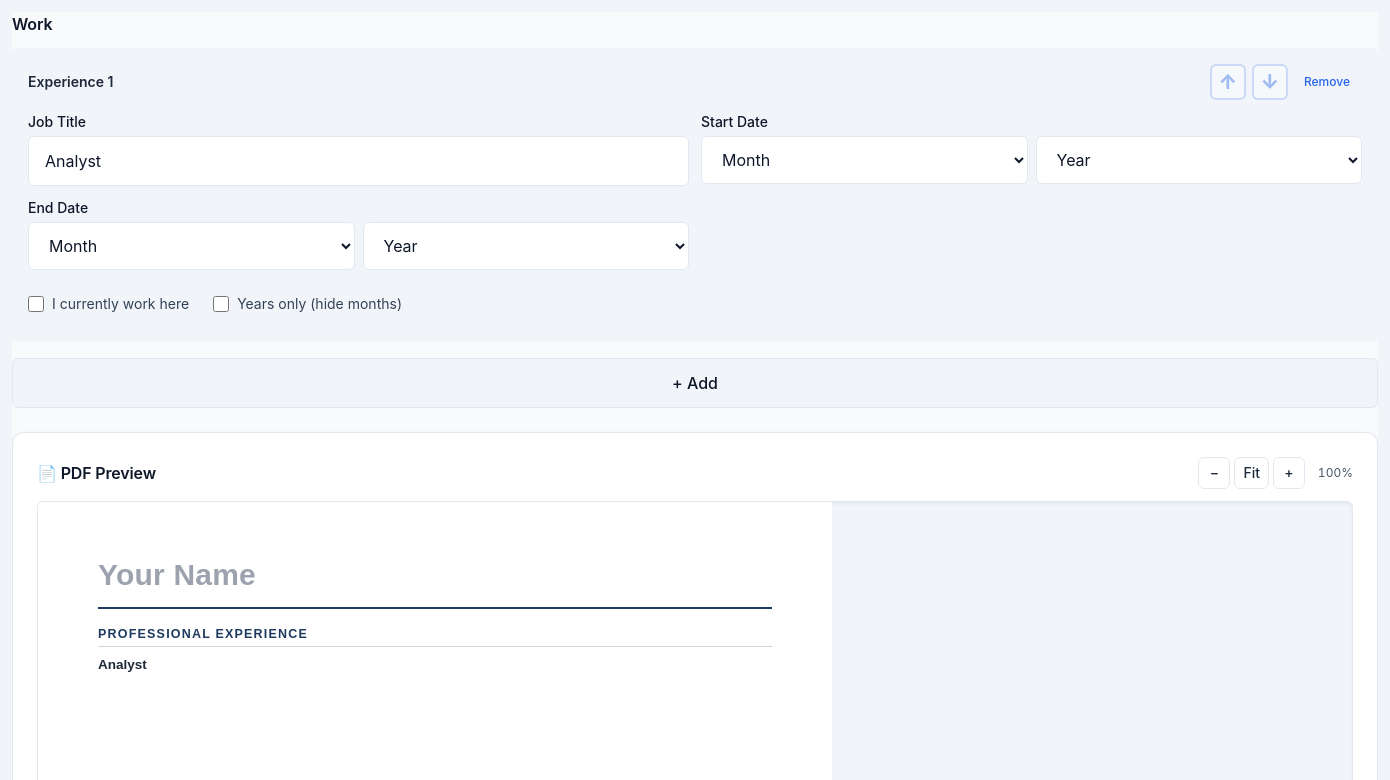
Test: date fields with "Years only" › remembers a month chosen before the year
Select "Jun" in the 1st dropdown named "Start Date month": (864, 160) [701,136,1028,184]
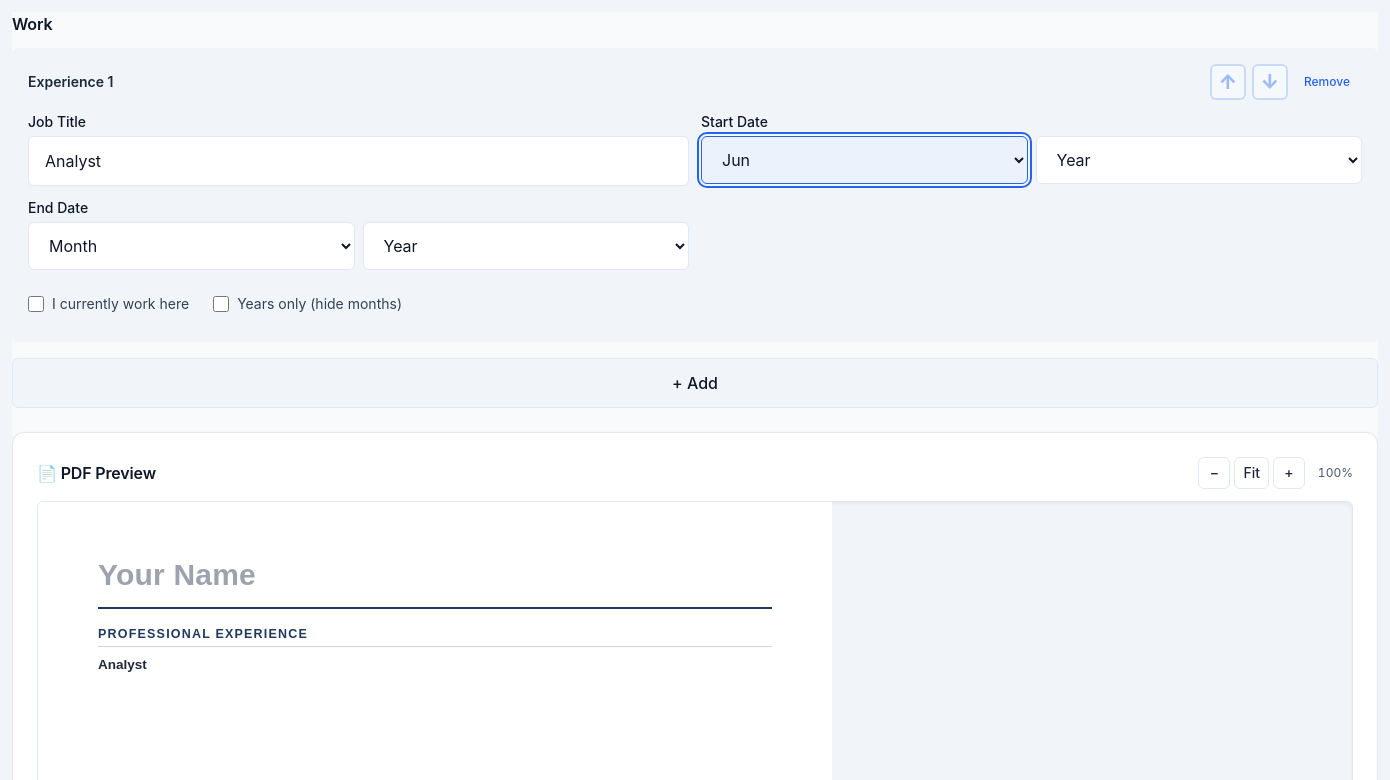
Select "2018" in the 2nd dropdown named "Start Date year": (1199, 160) [1036,136,1362,184]
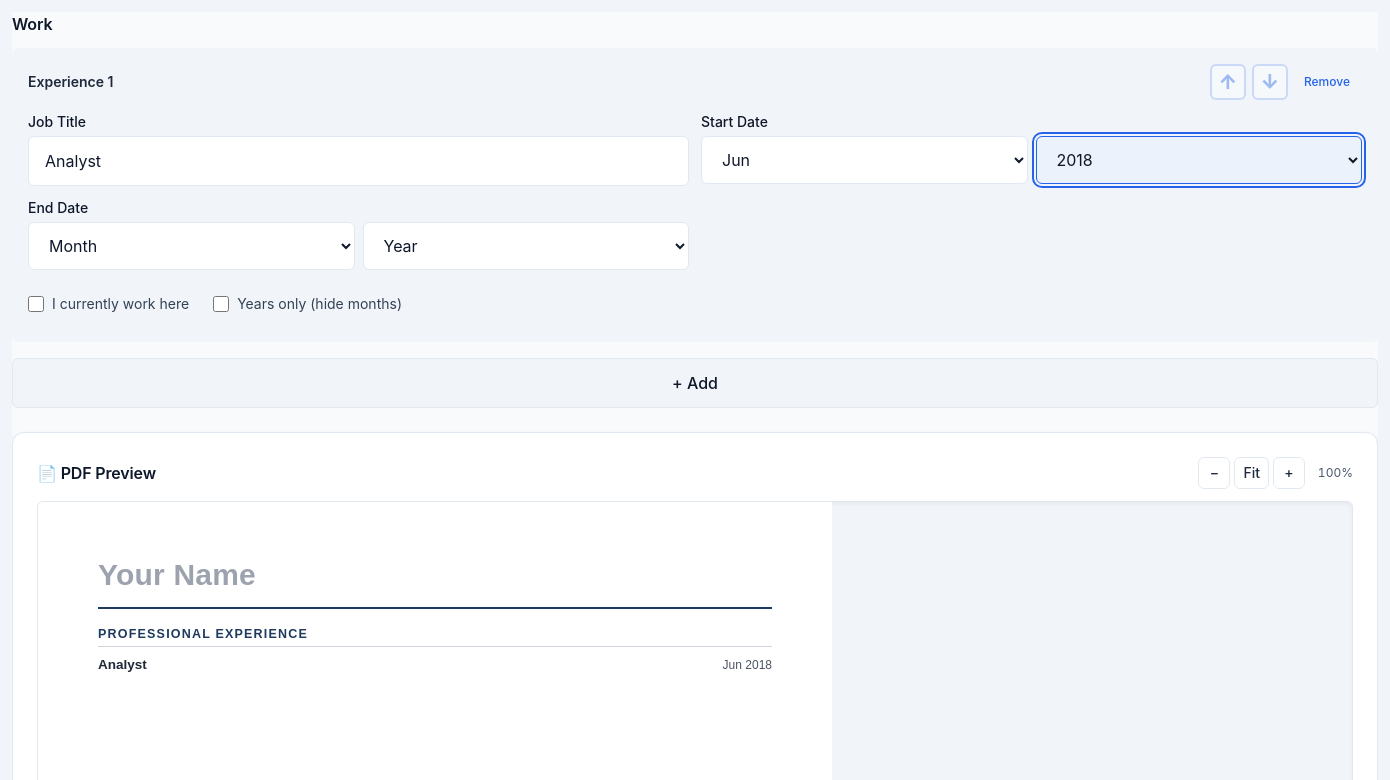
Check: the text "Jun 2018" is shown, box [723,657,772,674]
